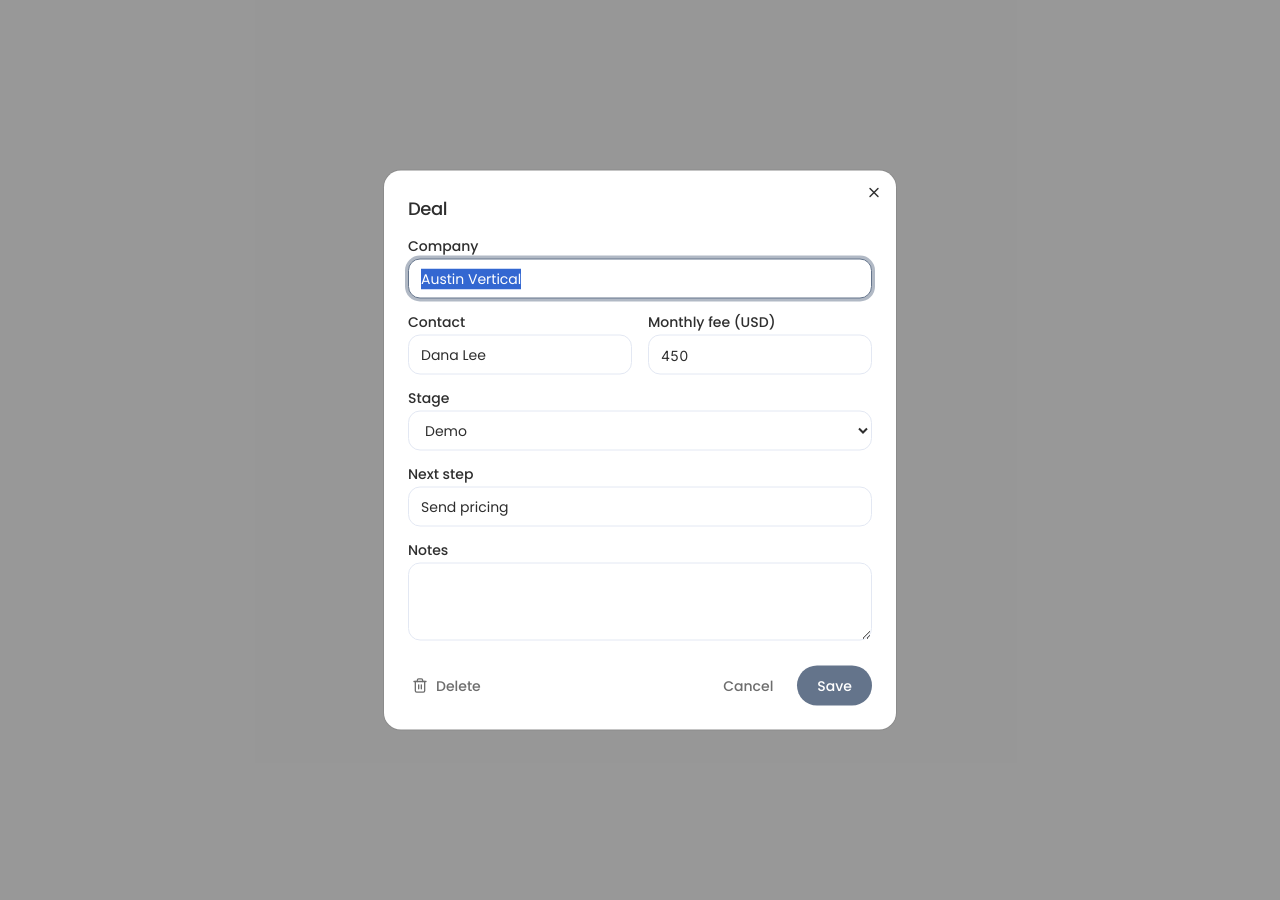
Scenario: CardEditor: a card made here › an amount that is not a number is refused before anything is sent
This screenshot has width=1280, height=900.
Replace the text in the field labelled "Monthly fee (USD)" with "about 500" at (760, 354), box [648, 334, 872, 374]
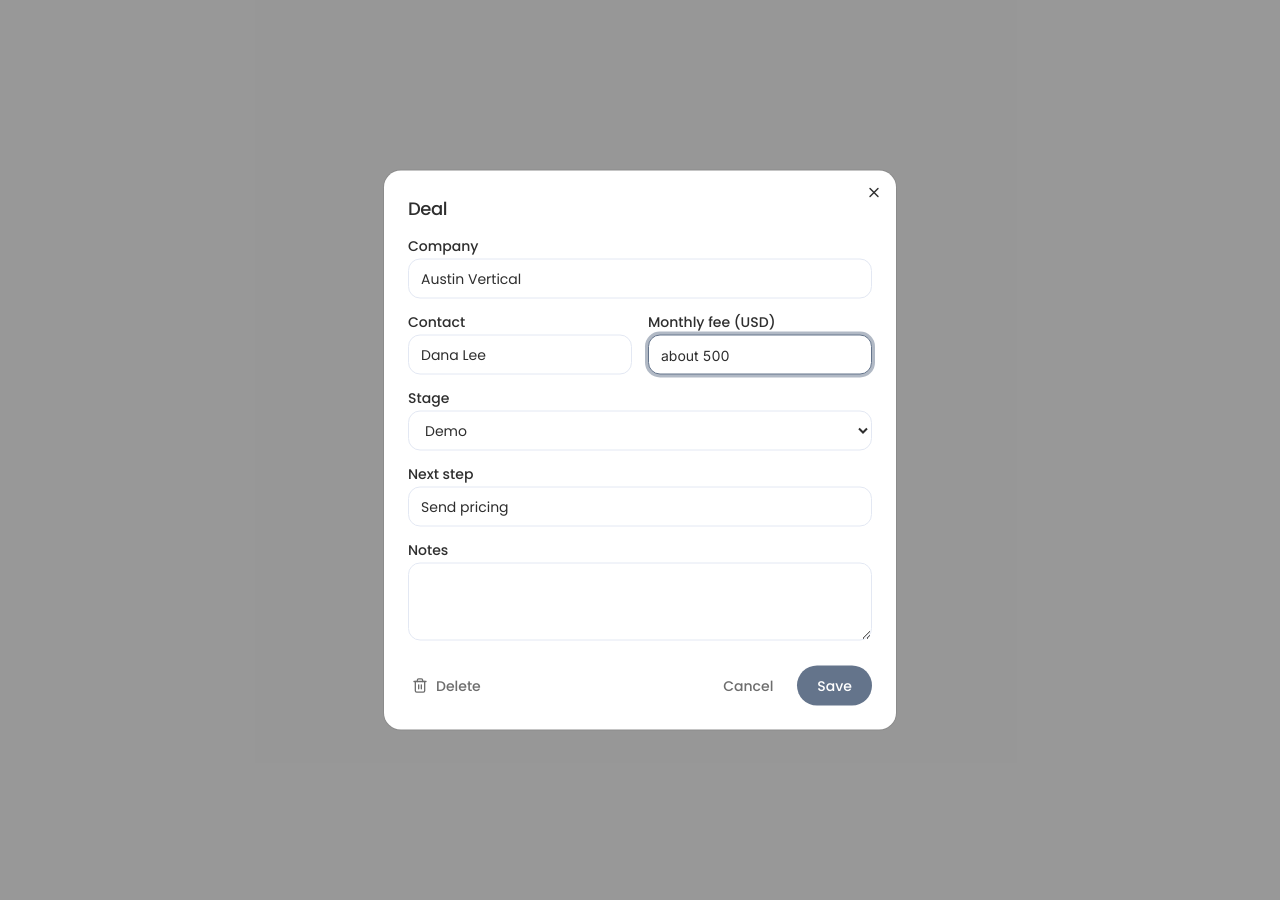
Click the button "Save" at (835, 686), box [797, 666, 872, 706]
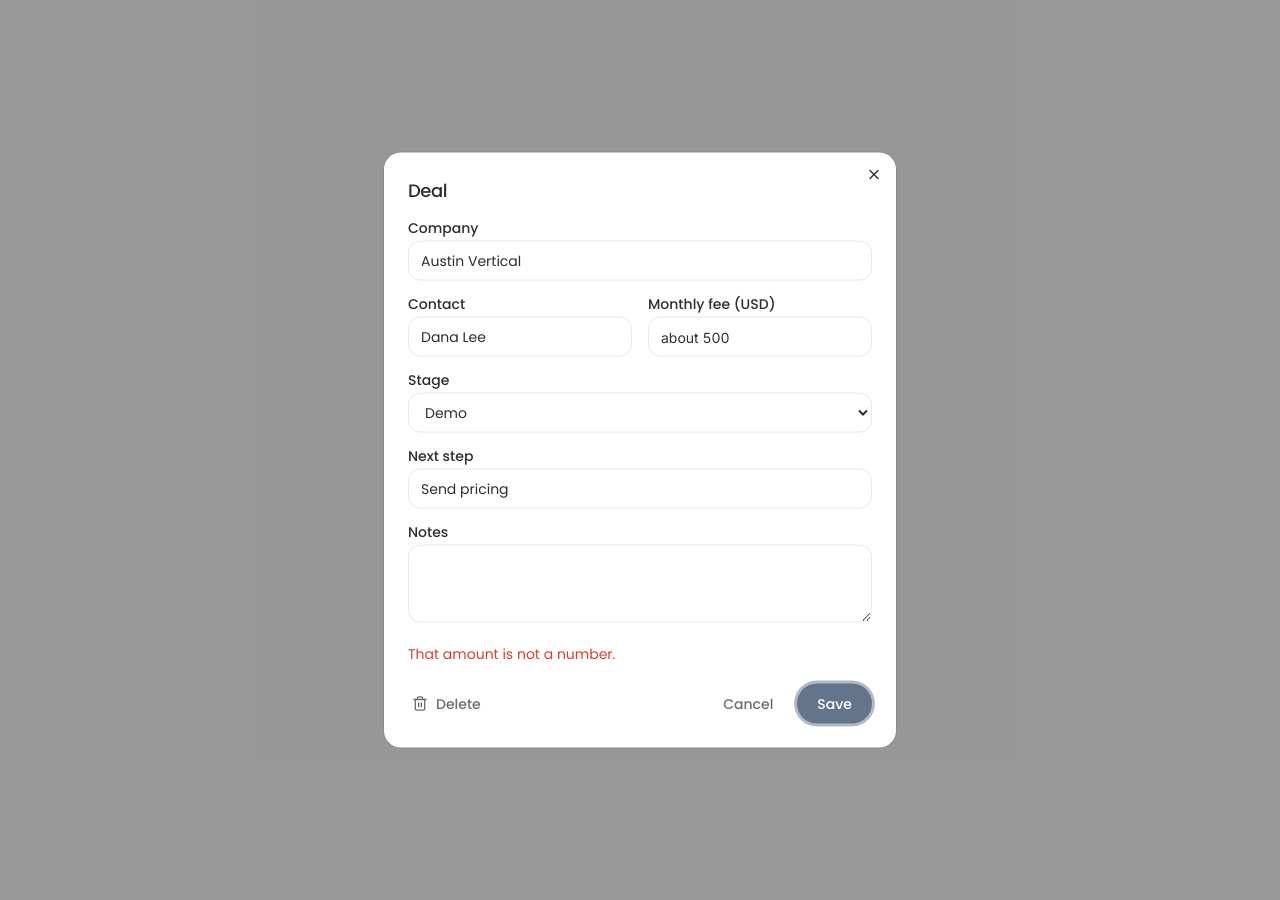
Expected: the message reads "That amount is not a number.", [408, 644, 616, 664]
